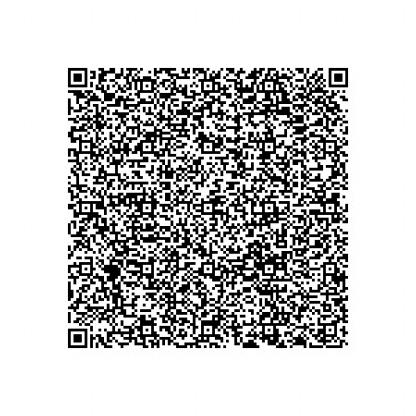qr: (64, 64, 353, 352)
